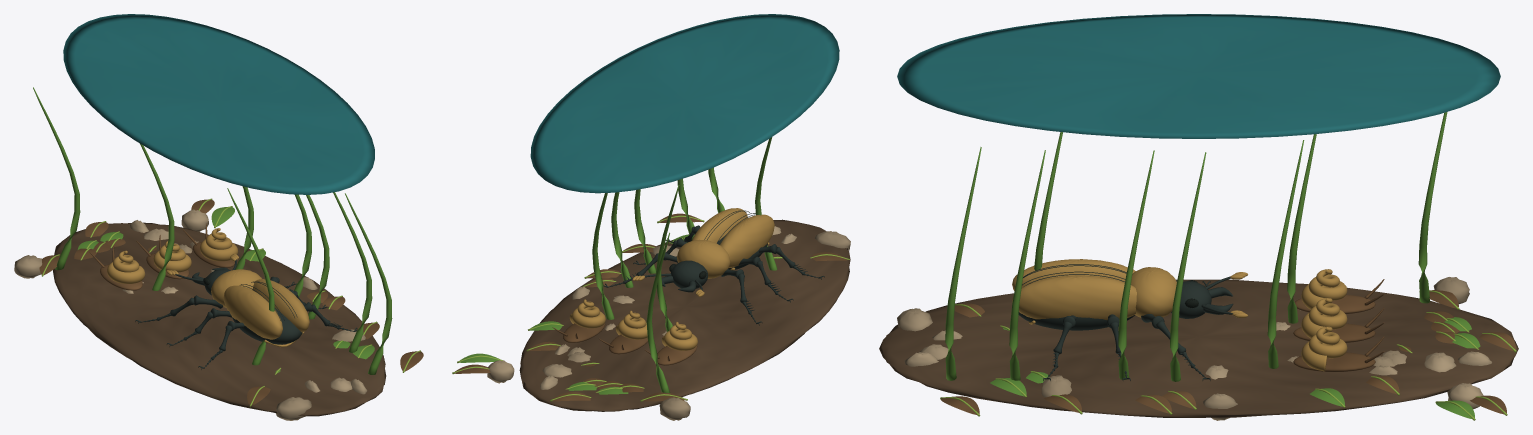
The picture shows the model from 3 angles, left to right: view 1: azimuth 30°, elevation 25°; view 2: azimuth 150°, elevation 25°; view 3: azimuth 270°, elevation 25°; orthographic projection. The views are drawn at different scales.
Parts seen in each view (by area): view 1: B07_SPEC_Water surface_export, B07_SPEC_Substrate_export, B07_SPEC_Leaf jade_export, B07_SPEC_Iridescent bronze_export, B07_SPEC_Bark_export, B07_SPEC_Matrix sandstone_export, B07_SPEC_Chitin_export, B07_SPEC_Leaf new growth_export; view 2: B07_SPEC_Water surface_export, B07_SPEC_Substrate_export, B07_SPEC_Iridescent bronze_export, B07_SPEC_Leaf jade_export, B07_SPEC_Bark_export, B07_SPEC_Chitin_export, B07_SPEC_Matrix sandstone_export, B07_SPEC_Leaf new growth_export; view 3: B07_SPEC_Water surface_export, B07_SPEC_Substrate_export, B07_SPEC_Leaf jade_export, B07_SPEC_Iridescent bronze_export, B07_SPEC_Bark_export, B07_SPEC_Matrix sandstone_export, B07_SPEC_Chitin_export, B07_SPEC_Leaf new growth_export.
Boxes of the visible parts, x1,y1,x2,y2 form: B07_SPEC_Water surface_export: (63,14,374,194); B07_SPEC_Substrate_export: (53,222,386,416); B07_SPEC_Leaf jade_export: (33,87,392,374); B07_SPEC_Iridescent bronze_export: (107,228,309,347); B07_SPEC_Bark_export: (39,199,423,404); B07_SPEC_Matrix sandstone_export: (14,209,367,420); B07_SPEC_Chitin_export: (135,259,357,369); B07_SPEC_Leaf new growth_export: (41,198,421,407); B07_SPEC_Water surface_export: (530,14,839,193); B07_SPEC_Substrate_export: (519,219,850,411); B07_SPEC_Iridescent bronze_export: (569,208,774,350); B07_SPEC_Leaf jade_export: (459,137,779,394); B07_SPEC_Bark_export: (454,213,847,401); B07_SPEC_Chitin_export: (603,210,824,325); B07_SPEC_Matrix sandstone_export: (487,226,850,420); B07_SPEC_Leaf new growth_export: (452,215,849,401); B07_SPEC_Water surface_export: (897,14,1500,138); B07_SPEC_Substrate_export: (879,279,1518,417); B07_SPEC_Leaf jade_export: (945,112,1480,419); B07_SPEC_Iridescent bronze_export: (1012,259,1347,371); B07_SPEC_Bark_export: (940,279,1516,415); B07_SPEC_Matrix sandstone_export: (897,277,1491,420); B07_SPEC_Chitin_export: (1018,264,1233,380); B07_SPEC_Leaf new growth_export: (940,290,1516,420).
Bounding box in the file's own units: 1.14 × 1.07 × 2.16.
